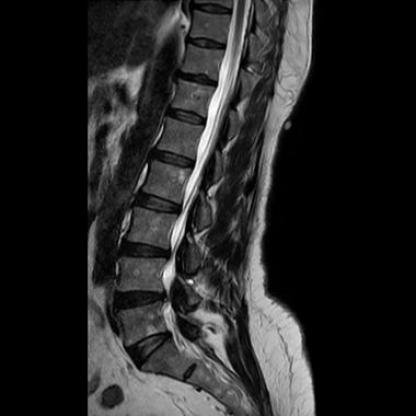Disc Bulgerotation: (118, 239, 170, 266), (114, 288, 167, 312)
